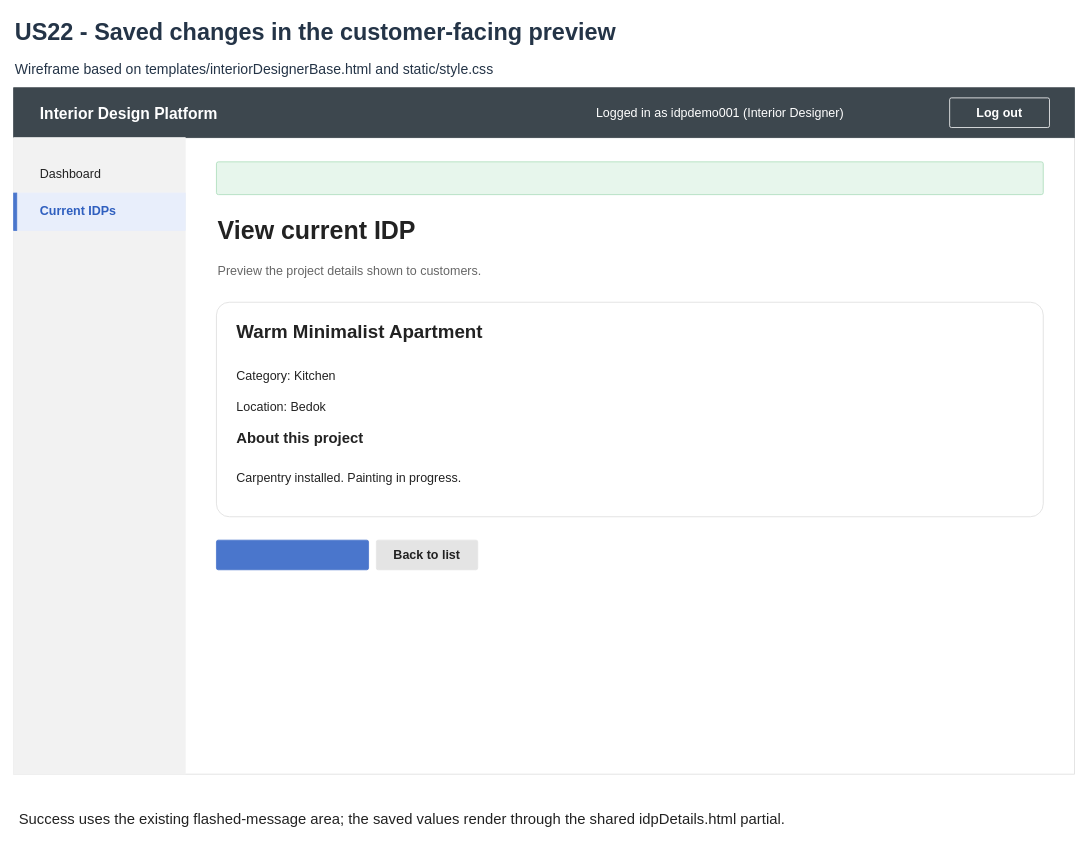
Some shapes in this 1088 by 846 pixel diagram are drawn without their labels. The shapes that lost their labels are listed below. From the top down, each one's centre as x and y in pixels, then its label:
At [629,178]: "Current IDP updated successfully".
At [292,554]: "Update current IDP".
